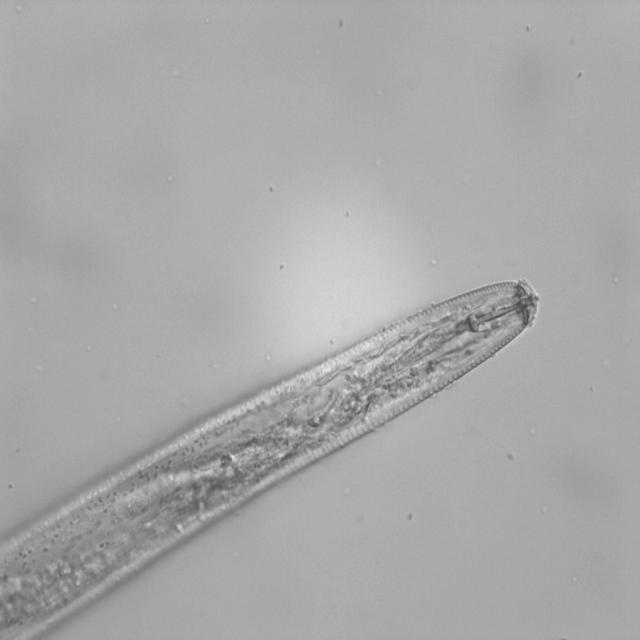Radopholus: (0, 274, 545, 640)
